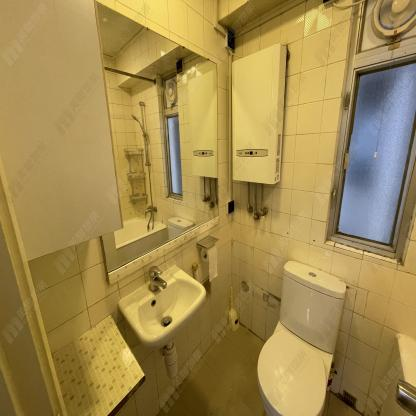Toilet: (255, 261, 347, 416)
Toilet Sink: (116, 264, 207, 350)
Water Heater: (232, 44, 287, 184)
